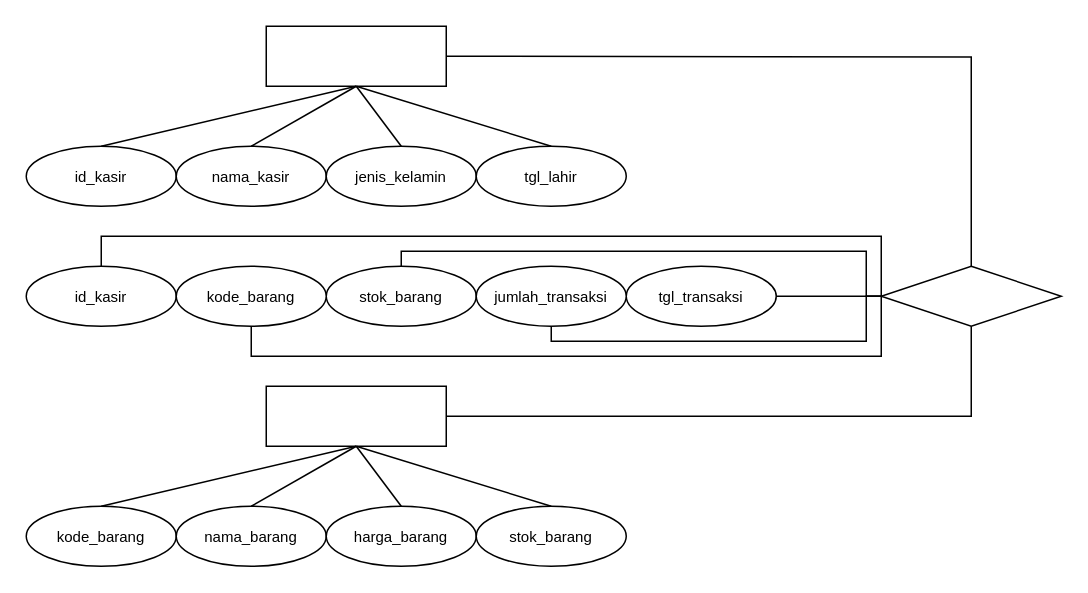
Some shapes in this 1088 by 593 pixel diagram are drawn without their labels. The shapes that lost their labels are listed below. From the top down, each one's box as (x1, y1, x2, y2) in pixels, then its label:
(265, 25, 446, 86): Kasir
(880, 265, 1061, 326): Jual
(265, 385, 446, 446): Barang
